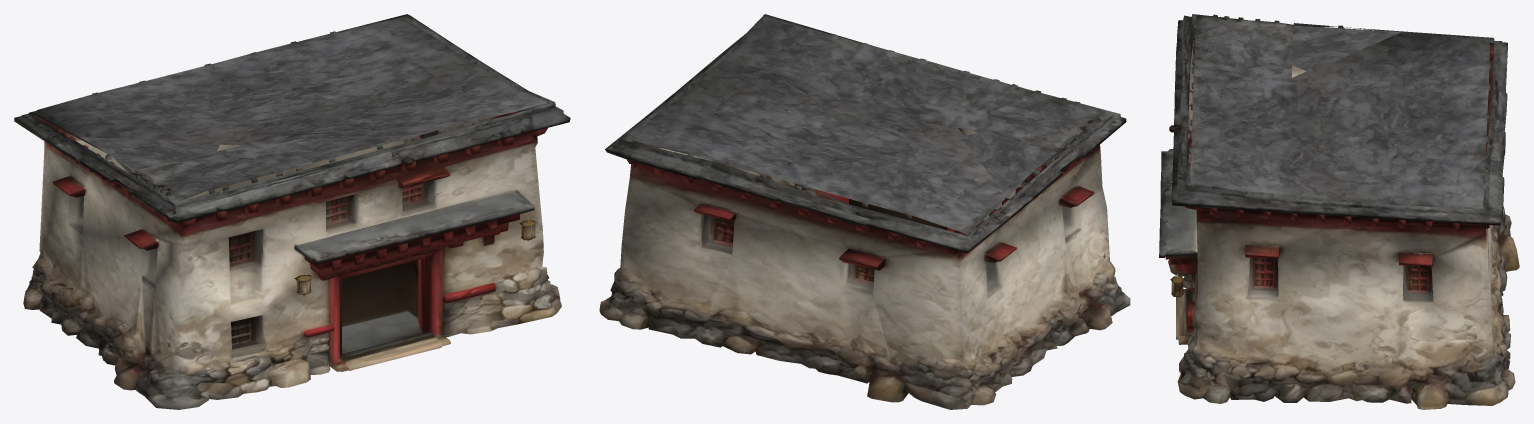
The model's file is plateau-station-hall.glb.
3 renders of one model, left to right at view 1: azimuth 30°, elevation 25°; view 2: azimuth 150°, elevation 25°; view 3: azimuth 270°, elevation 25°, orthographic. The views are drawn at different scales.
Parts seen in each view (by area): view 1: plateau-station-hall; view 2: plateau-station-hall; view 3: plateau-station-hall.
Part boxes in pixels (x1,y1,x2,y2): plateau-station-hall: (14, 14, 570, 409); plateau-station-hall: (599, 14, 1130, 409); plateau-station-hall: (1159, 14, 1519, 409).
Bounding box in the file's own units: 14.39 × 7 × 10.45.
1 material, 1 textured.
